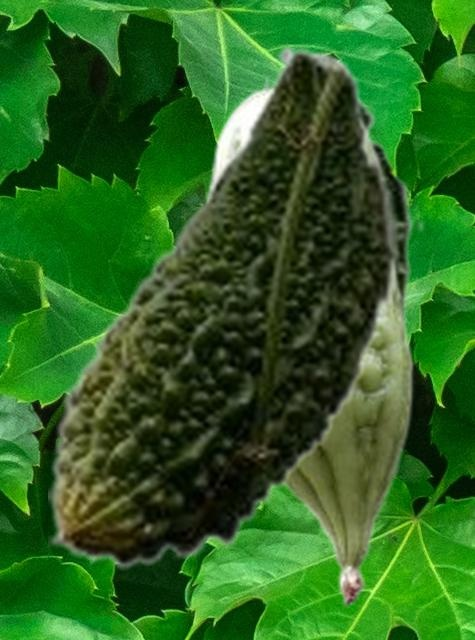ampalaya: (48, 47, 401, 569), (201, 84, 414, 606), (257, 44, 424, 540)
